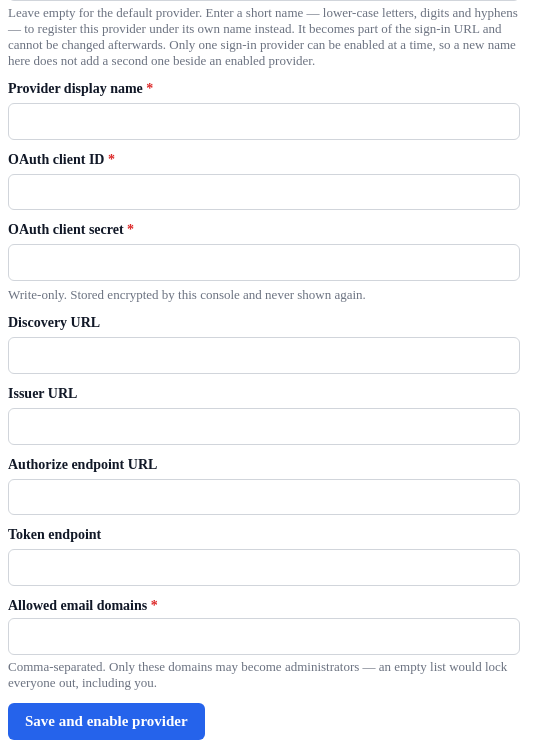
an empty submission is blocked, not sent › a wholly empty form is blocked with every per-field refusal
(page scrolled)
Step 1. Click the button "Save and enable provider" → (106, 721), box [8,703,205,740]
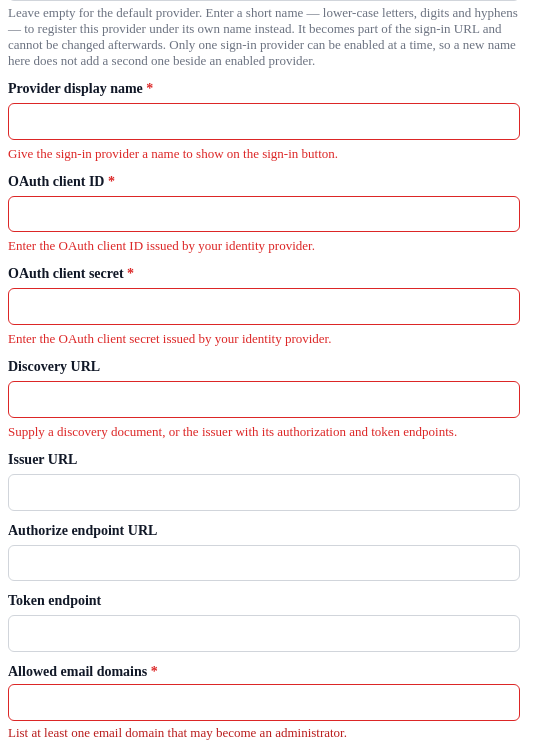
Result: the text "Give the sign-in provider a name to show on the sign-in button." is shown at [8,146,338,160]
Result: the text "Enter the OAuth client ID issued by your identity provider." is shown at [8,238,315,253]
Result: the text "Enter the OAuth client secret issued by your identity provider." is shown at [8,331,332,346]
